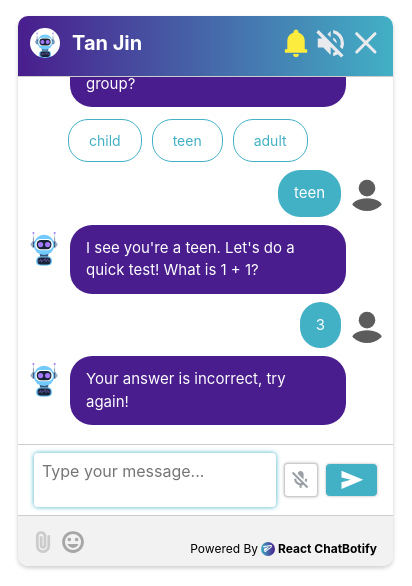
Scenario: Chat Bot Test Suite › Sends correct math answer and verifies bot reply
This screenshot has width=412, height=586.
(page scrolled)
Type "2" into the text box with placeholder "Type your message...".
click(155, 480); type("2")  # box top-left (34, 453), bottom-right (276, 507)
Then press Enter
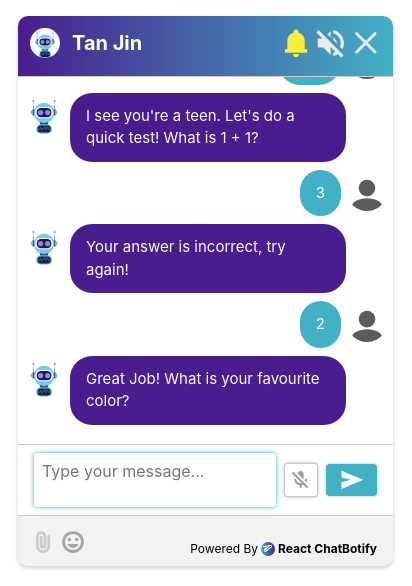
Now the text "Great Job! What is your favourite color?" is shown, box top-left (70, 356), bottom-right (346, 424)
